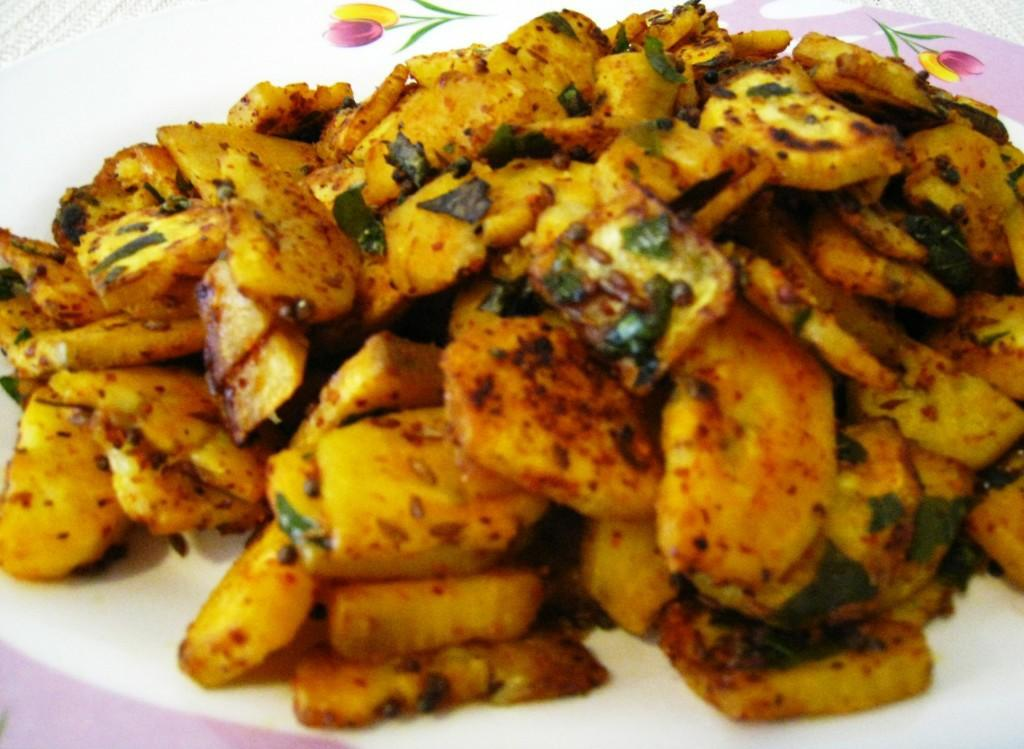AlooMasala: (0, 0, 1024, 732)
